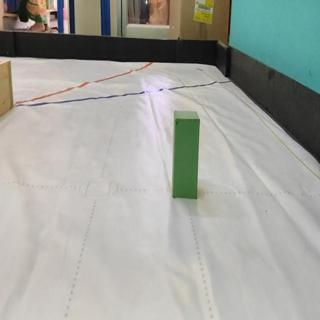greenbox: (172, 109, 200, 198)
